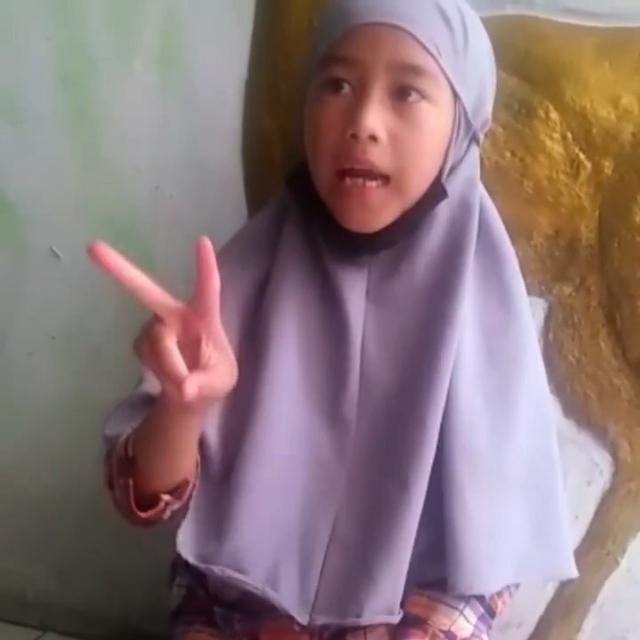V: (85, 234, 251, 421)
